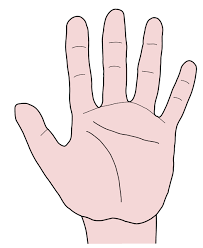palm: (66, 107, 169, 211)
